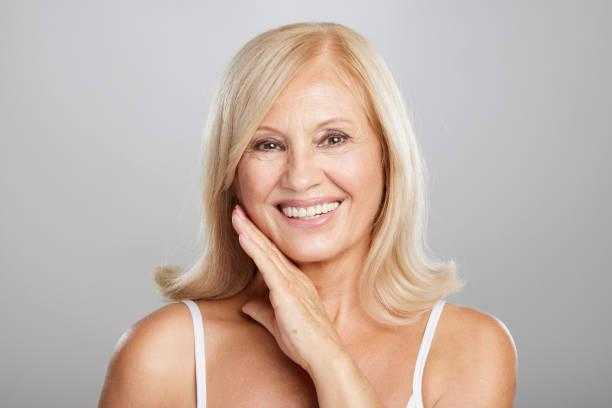Dry-Skin: (326, 145, 395, 223), (269, 85, 341, 130)
